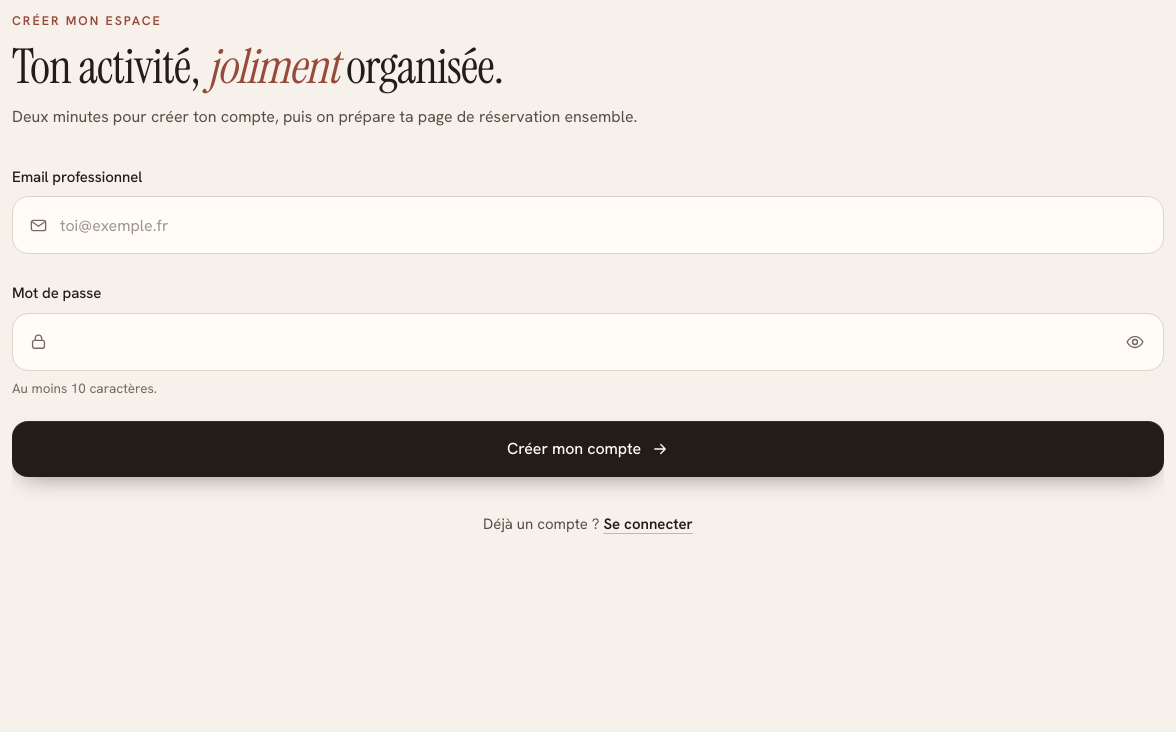
SignupForm › confirmation_required: shows the inbox screen with the address used
Type "Mila@Studio.fr" into the field labelled "Email professionnel". click: (606, 225)
box: [48,197,1163,253]
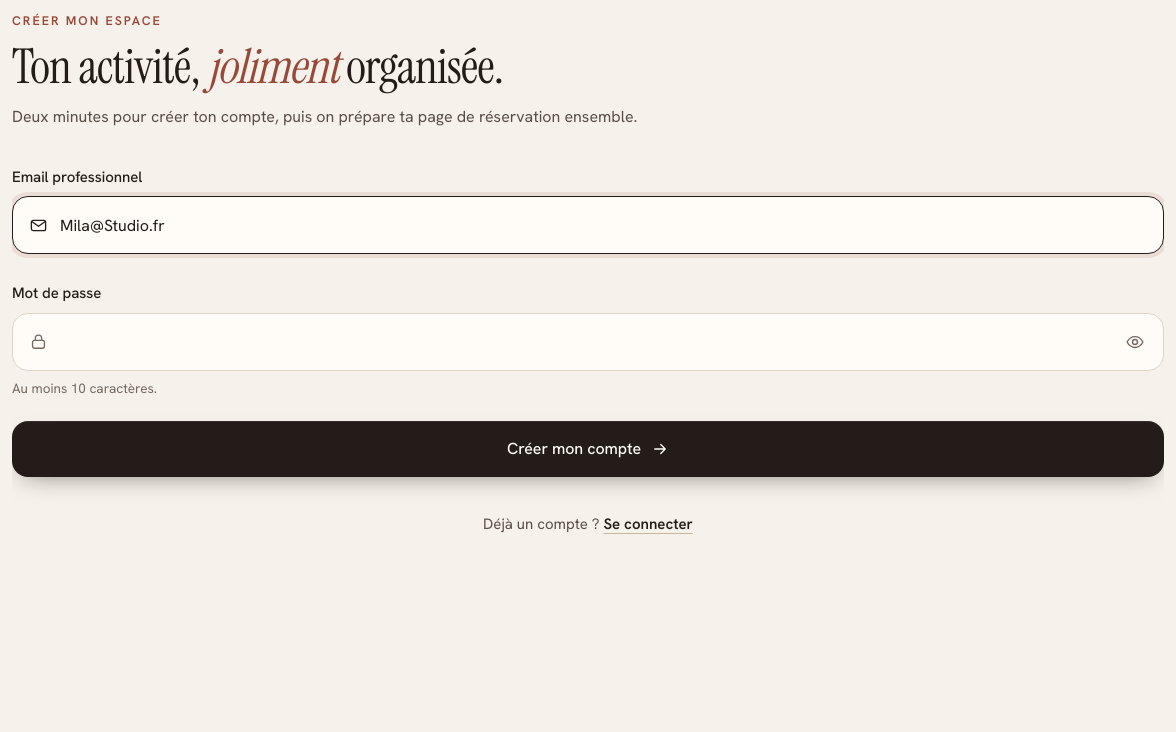
Type "correct-horse-battery" into the password field labelled "Mot de passe". click: (580, 342)
box: [48,314,1113,370]
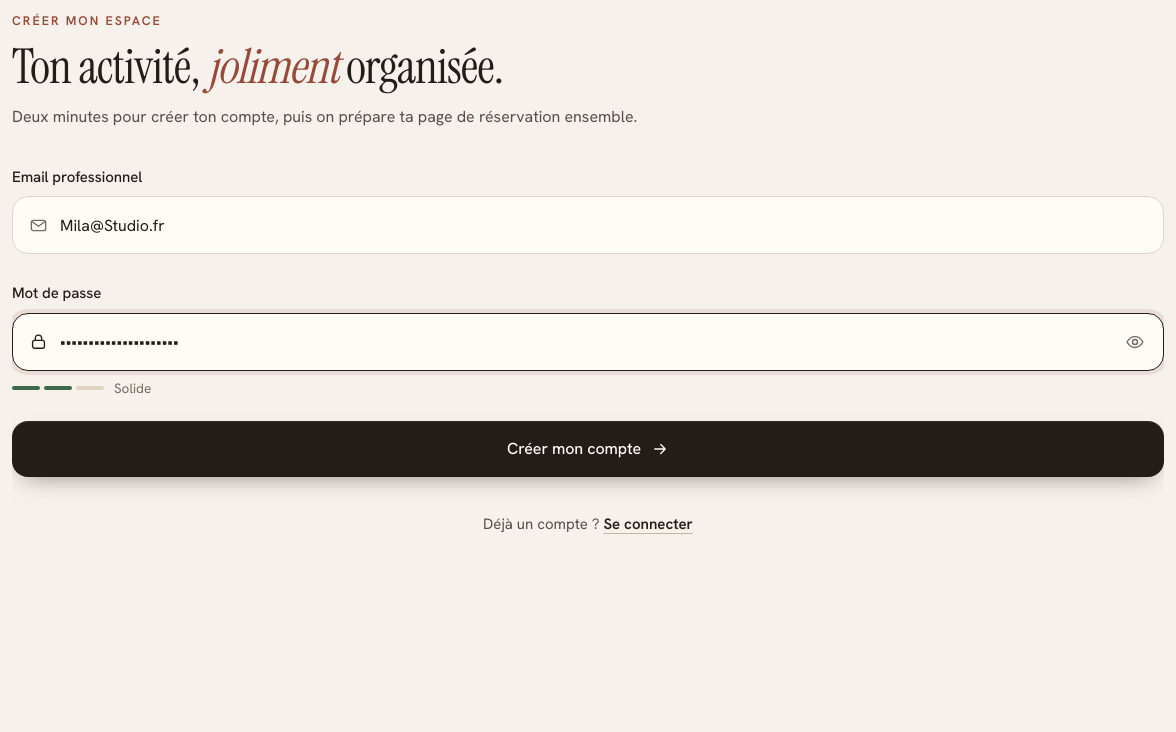
Click the button "Créer mon compte". click: (588, 449)
box: [12,421,1164,477]
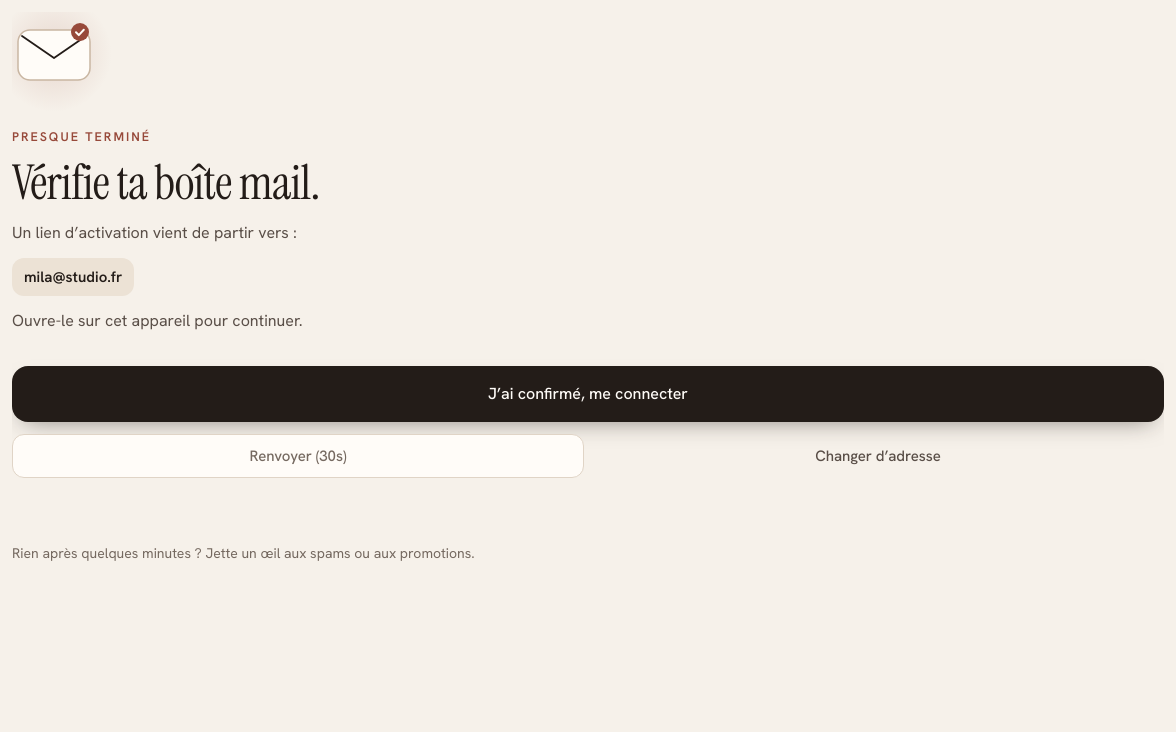
Now the heading "Vérifie ta boîte mail." is shown, box [12,159,320,208]
Now the text "mila@studio.fr" is shown, box [12,258,134,296]
